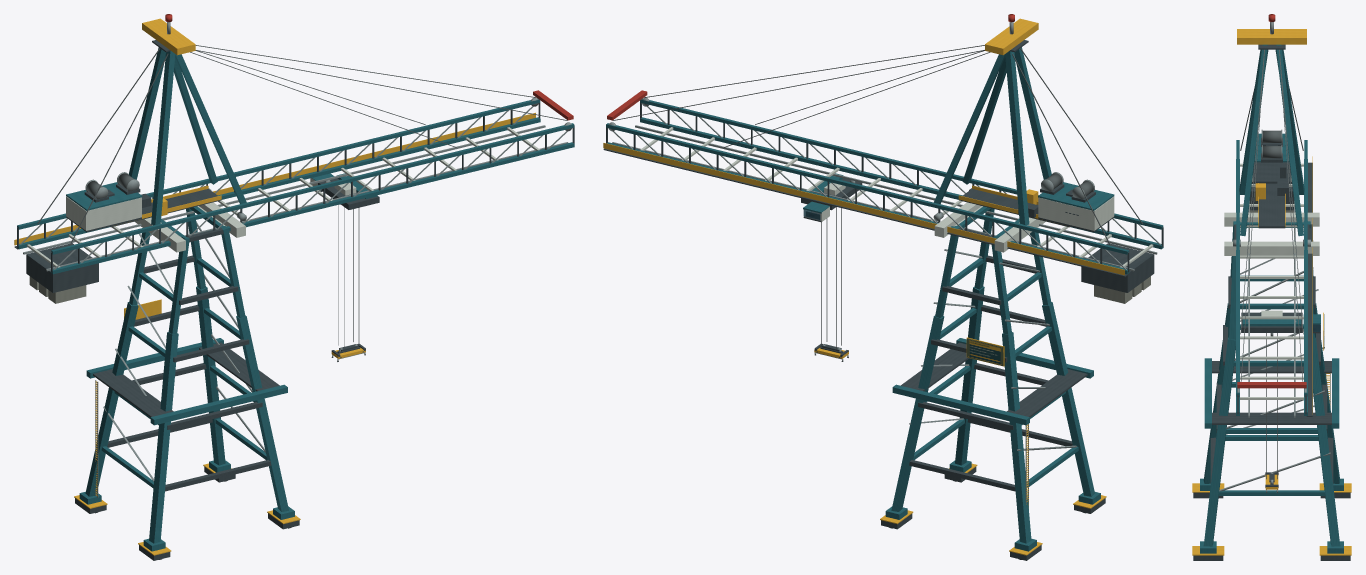
File: PROJECT_Z_Graywater_STS_Container_Crane.glb
3 renders of one model, left to right at view 1: azimuth 30°, elevation 25°; view 2: azimuth 150°, elevation 25°; view 3: azimuth 270°, elevation 25°, orthographic.
Parts seen in each view (by area): view 1: PORTAL_P00_OUTER_LEG, BACKREACH_COUNTERWEIGHT_FRAME, PORTAL_P01_OUTER_LEG, PORTAL_P10_OUTER_LEG, OUTBOARD_HINGED_BOTTOM_CHORD_Y-1, OUTBOARD_HINGED_TOP_CHORD_Y-1, OUTBOARD_HINGED_BOTTOM_CHORD_Y1, OUTBOARD_HINGED_TOP_CHORD_Y1, A_FRAME_LEG_LANDWARD_Y-5.5, PORTAL_P11_OUTER_LEG, OUTBOARD_HINGED_WALKWAY_RAIL_OUTER, PORTAL_LONGITUDINAL_BEAM_Y-12 (+17 smaller); view 2: PORTAL_P01_OUTER_LEG, PORTAL_P00_OUTER_LEG, OUTBOARD_HINGED_WALKWAY_RAIL_OUTER, PORTAL_P11_OUTER_LEG, BACKREACH_COUNTERWEIGHT_FRAME, OUTBOARD_HINGED_TOP_CHORD_Y1, OUTBOARD_HINGED_BOTTOM_CHORD_Y-1, OUTBOARD_HINGED_TOP_CHORD_Y-1, A_FRAME_LEG_LANDWARD_Y5.5, PORTAL_P10_OUTER_LEG, PORTAL_LONGITUDINAL_BEAM_Y12, PORTAL_SERVICE_PLATFORM_X-11.5 (+17 smaller); view 3: PORTAL_P10_OUTER_LEG, PORTAL_P11_OUTER_LEG, PORTAL_SERVICE_PLATFORM_X11.5, UPPER_MAIN_CROSSBEAM_X6.5, A_FRAME_LEG_SEAWARD_Y-5.5, A_FRAME_LEG_SEAWARD_Y5.5, A_FRAME_APEX_CROSSHEAD, UPPER_SERVICE_WALKWAY, OUTBOARD_HINGED_MAINTENANCE_WALKWAY, MACHINERY_HOUSE_FLOOR, PORTAL_SERVICE_PLATFORM_X-11.5, A_FRAME_LEG_LANDWARD_Y-5.5 (+41 smaller).
Boxes of the visible parts, x1=… form: PORTAL_P00_OUTER_LEG: x1=149, y1=332, x2=178, y2=543; BACKREACH_COUNTERWEIGHT_FRAME: x1=26, y1=243, x2=98, y2=292; PORTAL_P01_OUTER_LEG: x1=85, y1=302, x2=138, y2=496; PORTAL_P10_OUTER_LEG: x1=236, y1=315, x2=288, y2=511; OUTBOARD_HINGED_BOTTOM_CHORD_Y-1: x1=242, y1=142, x2=574, y2=227; OUTBOARD_HINGED_TOP_CHORD_Y-1: x1=240, y1=123, x2=574, y2=208; OUTBOARD_HINGED_BOTTOM_CHORD_Y1: x1=218, y1=117, x2=540, y2=199; OUTBOARD_HINGED_TOP_CHORD_Y1: x1=206, y1=98, x2=540, y2=183; A_FRAME_LEG_LANDWARD_Y-5.5: x1=151, y1=51, x2=175, y2=225; PORTAL_P11_OUTER_LEG: x1=196, y1=286, x2=225, y2=465; OUTBOARD_HINGED_WALKWAY_RAIL_OUTER: x1=213, y1=112, x2=535, y2=195; PORTAL_LONGITUDINAL_BEAM_Y-12: x1=150, y1=384, x2=287, y2=425; PORTAL_P01_OUTER_LEG: x1=1002, y1=332, x2=1031, y2=543; PORTAL_P00_OUTER_LEG: x1=1042, y1=302, x2=1094, y2=496; OUTBOARD_HINGED_WALKWAY_RAIL_OUTER: x1=603, y1=143, x2=935, y2=228; PORTAL_P11_OUTER_LEG: x1=891, y1=315, x2=944, y2=511; BACKREACH_COUNTERWEIGHT_FRAME: x1=1081, y1=243, x2=1154, y2=292; OUTBOARD_HINGED_TOP_CHORD_Y1: x1=606, y1=123, x2=939, y2=208; OUTBOARD_HINGED_BOTTOM_CHORD_Y-1: x1=640, y1=117, x2=962, y2=199; OUTBOARD_HINGED_TOP_CHORD_Y-1: x1=640, y1=98, x2=973, y2=183; A_FRAME_LEG_LANDWARD_Y5.5: x1=1005, y1=51, x2=1029, y2=225; PORTAL_P10_OUTER_LEG: x1=955, y1=286, x2=984, y2=465; PORTAL_LONGITUDINAL_BEAM_Y12: x1=892, y1=384, x2=1029, y2=425; PORTAL_SERVICE_PLATFORM_X-11.5: x1=1007, y1=369, x2=1087, y2=417; PORTAL_P10_OUTER_LEG: x1=1203, y1=337, x2=1235, y2=546; PORTAL_P11_OUTER_LEG: x1=1313, y1=337, x2=1340, y2=546; PORTAL_SERVICE_PLATFORM_X11.5: x1=1212, y1=412, x2=1331, y2=424; UPPER_MAIN_CROSSBEAM_X6.5: x1=1224, y1=241, x2=1319, y2=255; A_FRAME_LEG_SEAWARD_Y-5.5: x1=1240, y1=44, x2=1267, y2=236; A_FRAME_LEG_SEAWARD_Y5.5: x1=1276, y1=44, x2=1303, y2=236; A_FRAME_APEX_CROSSHEAD: x1=1237, y1=29, x2=1306, y2=44; UPPER_SERVICE_WALKWAY: x1=1258, y1=183, x2=1285, y2=228; OUTBOARD_HINGED_MAINTENANCE_WALKWAY: x1=1306, y1=254, x2=1312, y2=416; MACHINERY_HOUSE_FLOOR: x1=1252, y1=162, x2=1291, y2=183; PORTAL_SERVICE_PLATFORM_X-11.5: x1=1212, y1=361, x2=1331, y2=373; A_FRAME_LEG_LANDWARD_Y-5.5: x1=1239, y1=49, x2=1268, y2=194.
Size of the model in its own units: 113 by 105 by 30.
Materials: 10 (10 with a texture image).
